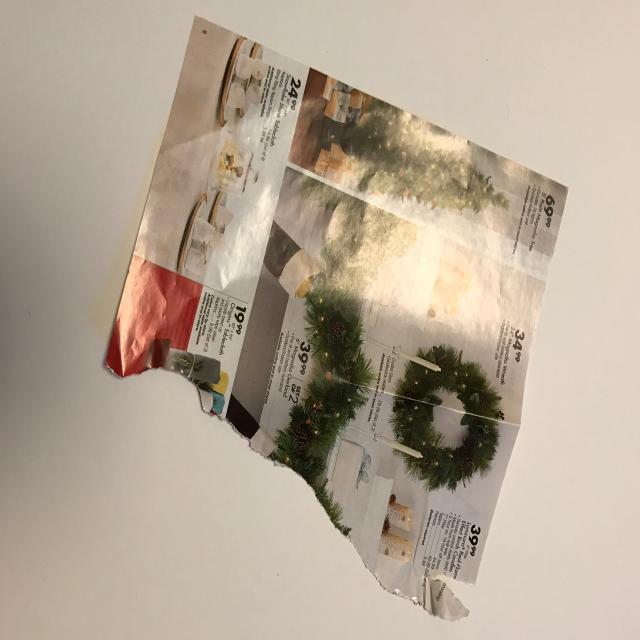Paper: (104, 7, 574, 619)
